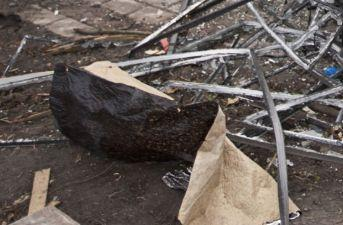metal: (78, 61, 296, 225), (132, 2, 340, 87), (0, 40, 74, 141), (2, 30, 144, 76), (1, 166, 85, 225)
